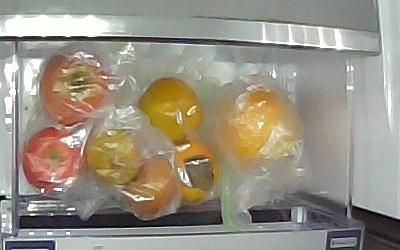apple_vinyl: (41, 51, 109, 126), (24, 127, 83, 193)
grapefruit_vinyl: (218, 85, 301, 170)
persimmon_vinyl: (137, 77, 202, 143), (172, 143, 221, 204)
prune_vinyl: (83, 124, 145, 185), (124, 157, 176, 214)
